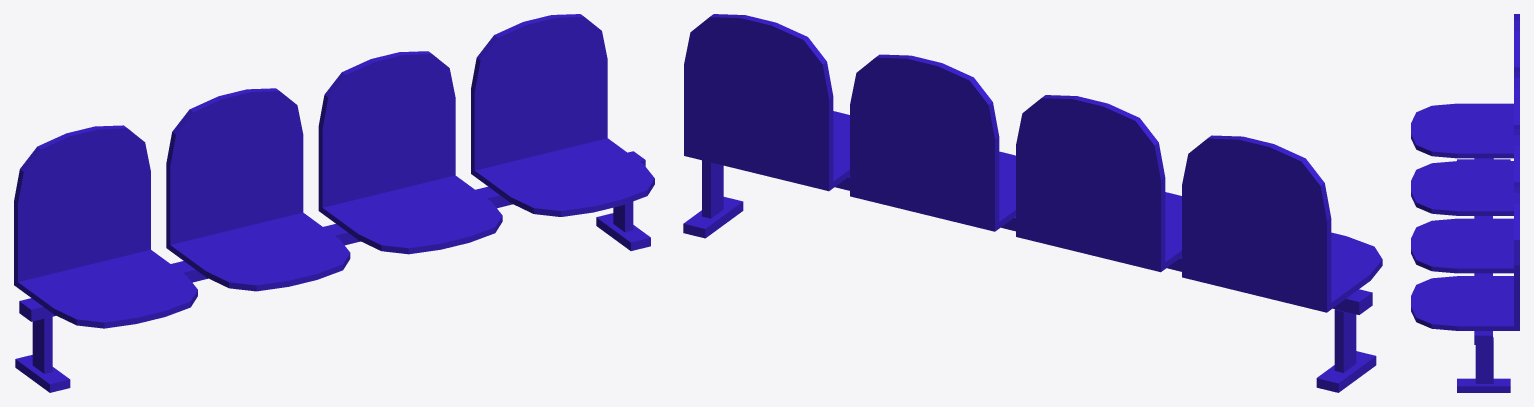
The model's file is Sillas 1.FBX.
The picture shows the model from 3 angles, left to right: view 1: azimuth 30°, elevation 25°; view 2: azimuth 150°, elevation 25°; view 3: azimuth 270°, elevation 25°; orthographic projection. The views are drawn at different scales.
Visible parts, largest first — view 1: Box004; view 2: Box004; view 3: Box004.
Part boxes in pixels (x1=…): Box004: x1=14, y1=14, x2=654, y2=392; Box004: x1=683, y1=14, x2=1382, y2=392; Box004: x1=1411, y1=14, x2=1519, y2=392.
Size of the model in its own units: 0.9158 by 0.3076 by 0.1816.
